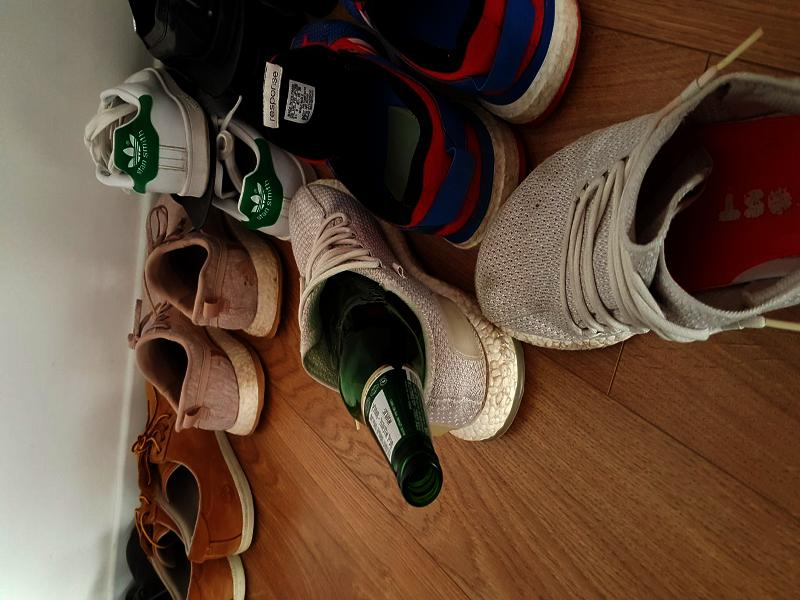Beer: (315, 270, 442, 506)
